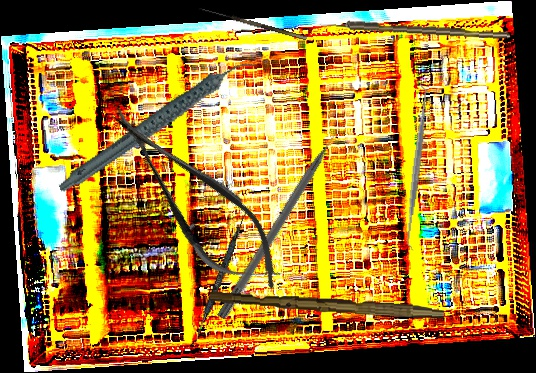Handpiece: (40, 57, 275, 195)
Hook Surgical: (196, 5, 308, 47), (318, 18, 511, 41)
Micro Scissor: (90, 85, 301, 312)
Pusher: (216, 119, 349, 322)
Scalpel Handle: (209, 289, 445, 320)
Spatula Surgical: (190, 210, 248, 350), (397, 81, 436, 251)
